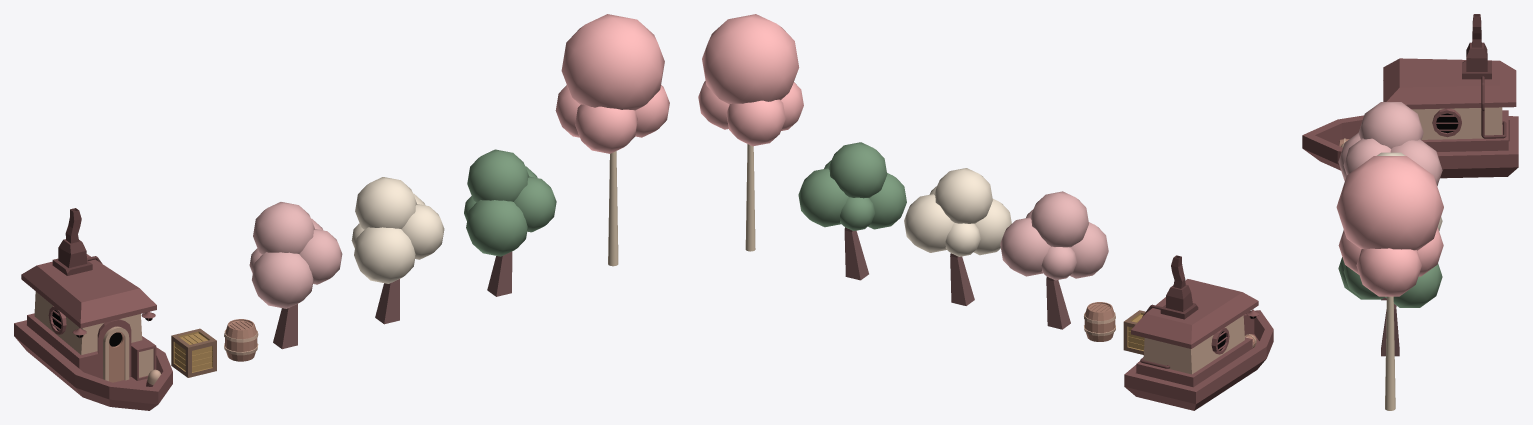
Rendered from boat.fbx.
3 renders of one model, left to right at view 1: azimuth 30°, elevation 25°; view 2: azimuth 150°, elevation 25°; view 3: azimuth 270°, elevation 25°, orthographic. The views are drawn at different scales.
Parts seen in each view (by area): view 1: Cylinder, House, Cube.003, Cube.001, Cube.002, MainFrame, Cube, Door, Barrel.002; view 2: Cylinder, House, Cube.001, Cube.003, Cube.002, MainFrame, Barrel.002, Cube; view 3: Cylinder, House, Cube.001, MainFrame, Cube.003, House.001.
Part boxes in pixels (left/top/right/bottom): Cylinder: left=555, top=14, right=669, bottom=266; House: left=21, top=208, right=156, bottom=380; Cube.003: left=464, top=149, right=556, bottom=296; Cube.001: left=249, top=202, right=342, bottom=349; Cube.002: left=351, top=177, right=444, bottom=324; MainFrame: left=14, top=320, right=172, bottom=410; Cube: left=171, top=328, right=216, bottom=377; Door: left=103, top=326, right=129, bottom=382; Barrel.002: left=224, top=319, right=258, bottom=361; Cylinder: left=698, top=14, right=803, bottom=251; House: left=1131, top=255, right=1259, bottom=387; Cube.001: left=1000, top=191, right=1108, bottom=329; Cube.003: left=798, top=142, right=906, bottom=280; Cube.002: left=904, top=168, right=1011, bottom=305; MainFrame: left=1124, top=310, right=1273, bottom=410; Barrel.002: left=1084, top=302, right=1115, bottom=341; Cube: left=1123, top=310, right=1145, bottom=354; Cylinder: left=1336, top=156, right=1443, bottom=410; House: left=1383, top=14, right=1516, bottom=151; Cube.001: left=1338, top=102, right=1442, bottom=185; MainFrame: left=1302, top=115, right=1518, bottom=178; Cube.003: left=1338, top=257, right=1442, bottom=356; House.001: left=1481, top=76, right=1506, bottom=138.
Size of the model in its own units: 5370 by 2141 by 1664.
